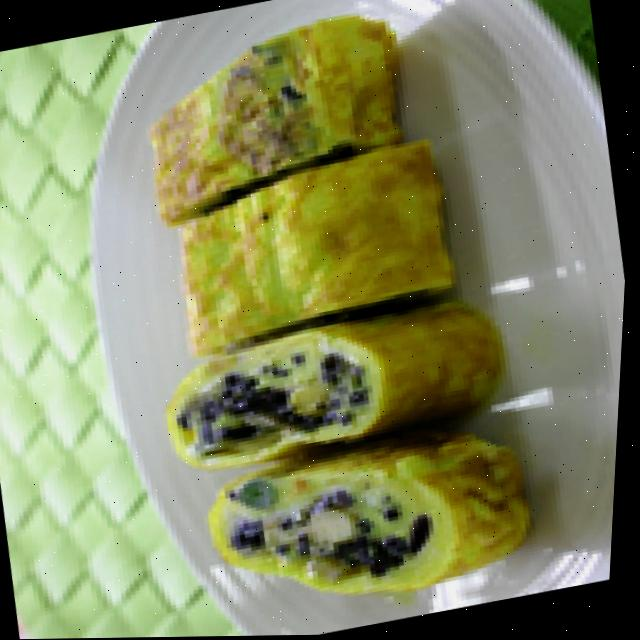鸡蛋料理: (83, 0, 564, 639)
